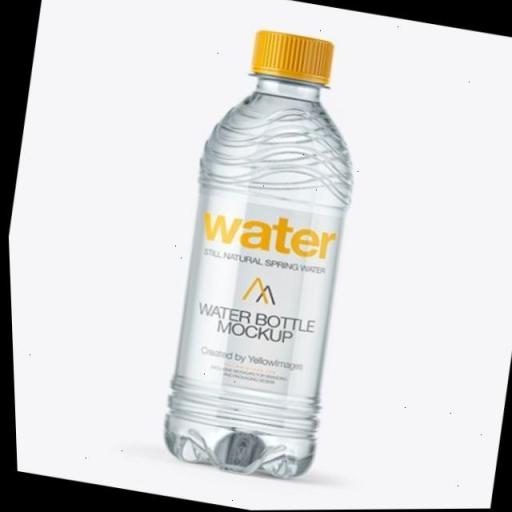plastic: (140, 18, 386, 489), (161, 192, 352, 402)
